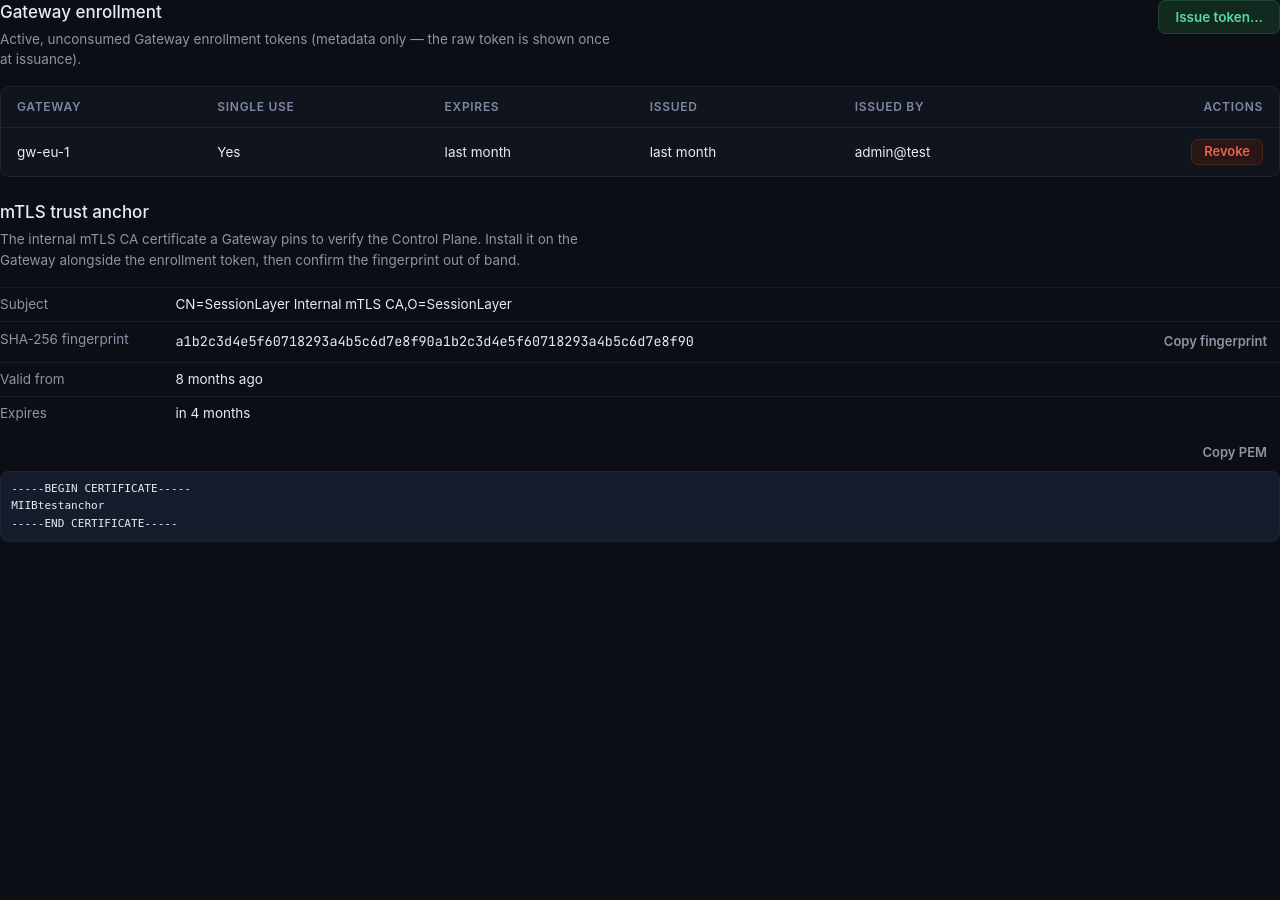
GatewayEnrollmentTokenList › issues a token and reveals the one-time secret
Expected: the text "gw-eu-1" is shown, [1, 128, 201, 176]
Click the button "Issue token…".
click(1219, 17)  # box [1158, 0, 1279, 34]
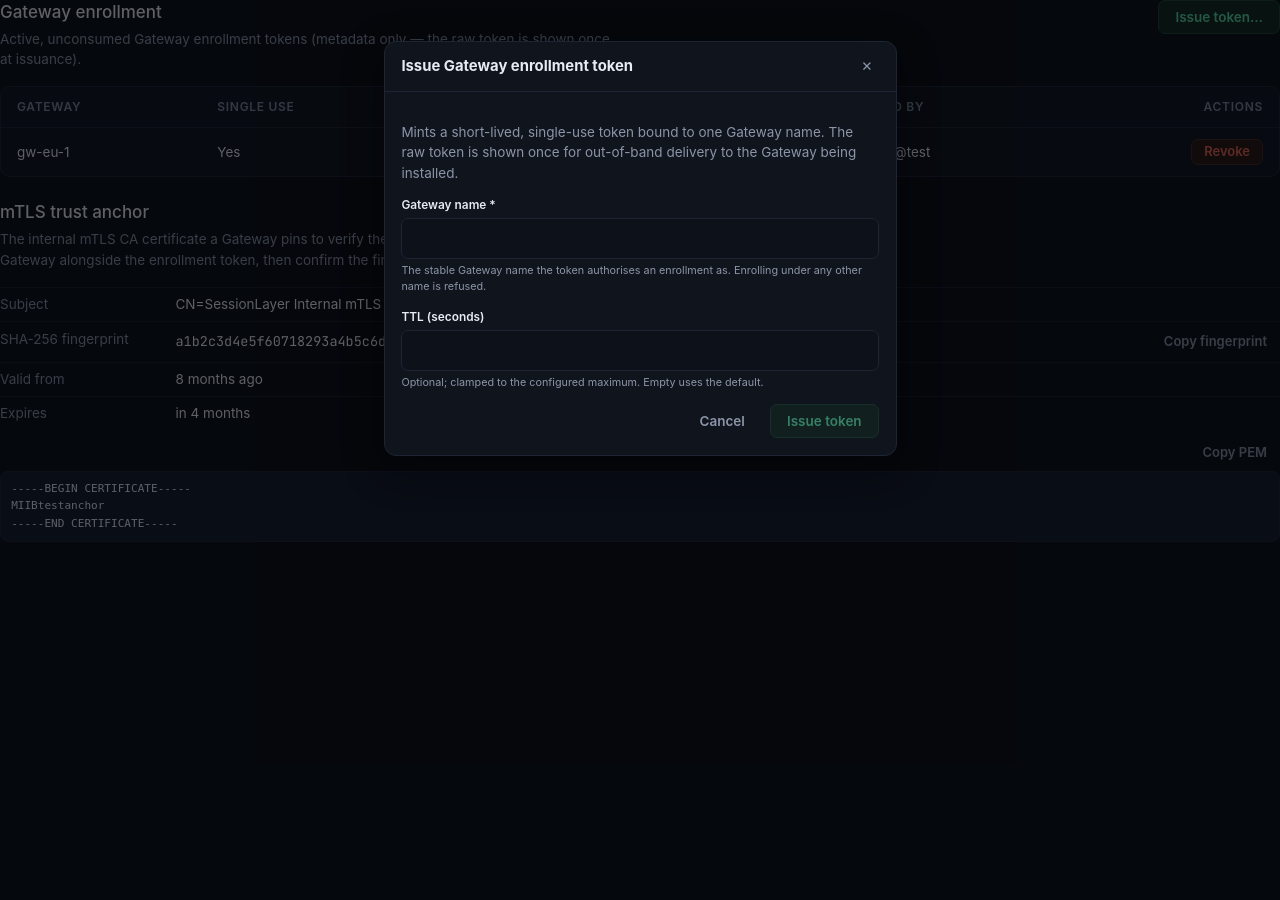
Type "gw-us-2" into the field labelled "Gateway name *".
click(640, 238); type("gw-us-2")  # box [401, 218, 879, 259]
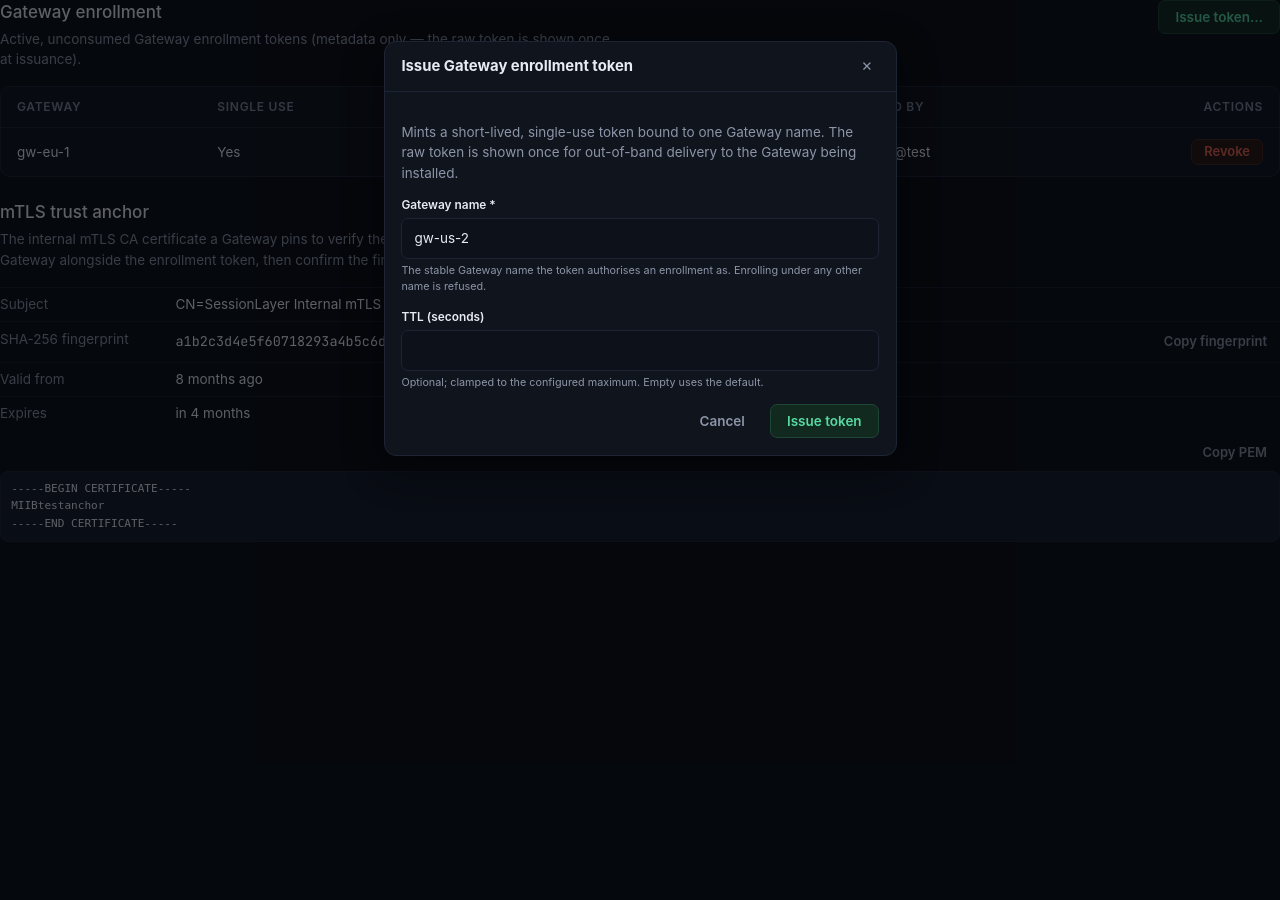
Click the button "Issue token".
click(824, 421)  # box [770, 404, 879, 438]
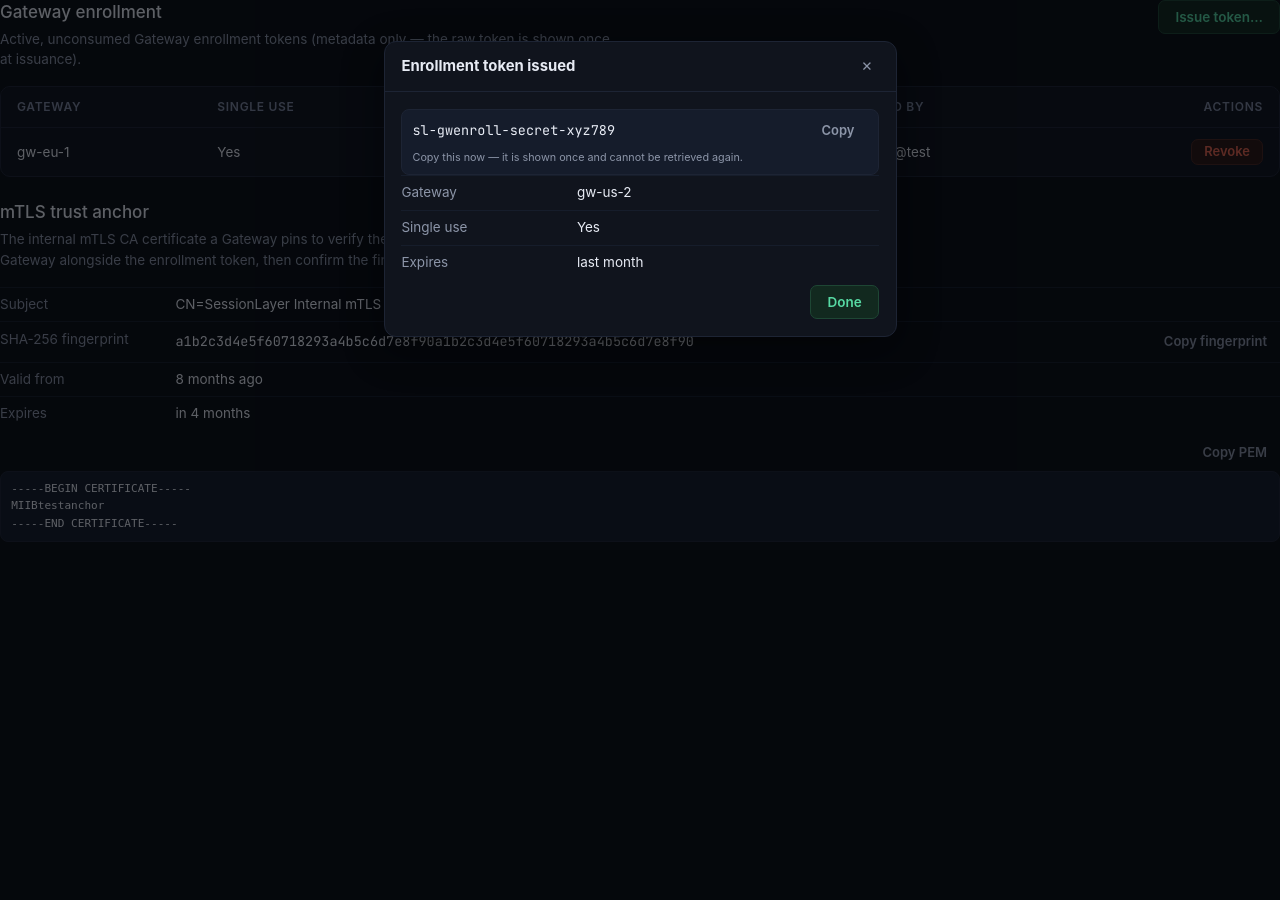
Now the text "sl-gwenroll-secret-xyz789" is shown, box [412, 121, 615, 139]
Now the text "cannot be retrieved again" is shown, box [412, 151, 743, 164]
Now the text "gw-us-2" is shown, box [577, 184, 632, 200]
